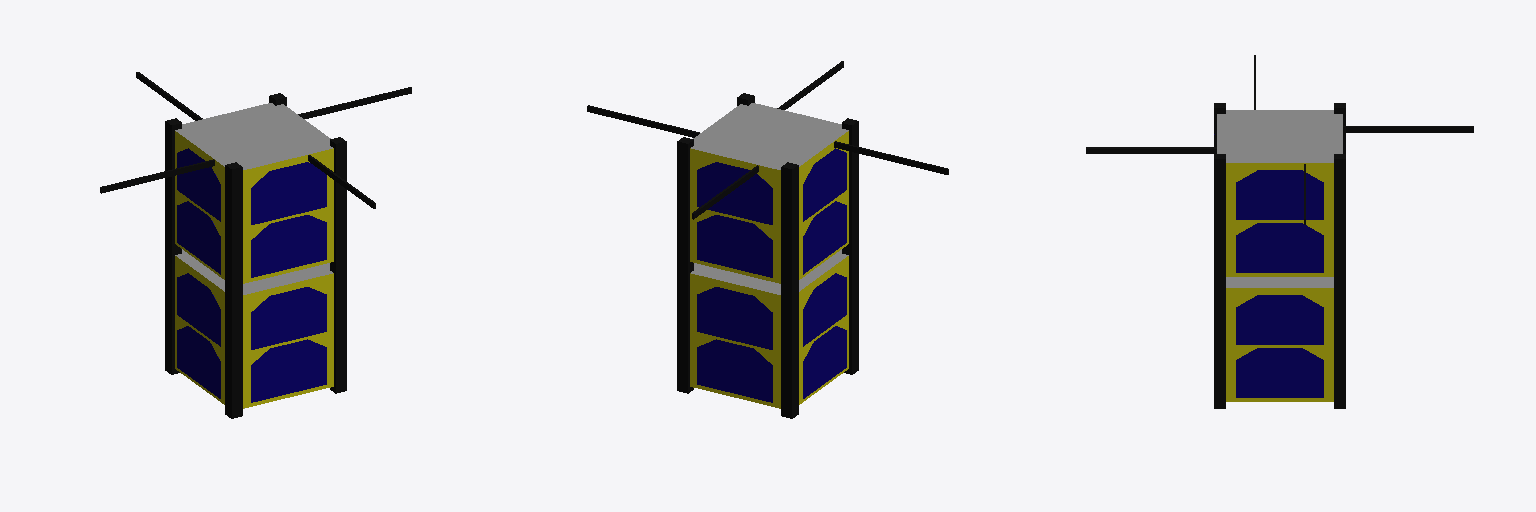
The picture shows the model from 3 angles: view 1: azimuth 30°, elevation 25°; view 2: azimuth 150°, elevation 25°; view 3: azimuth 270°, elevation 25°; orthographic projection.
Visible parts, largest first — view 1: CubeSatWAnten.001, CubeSatWAnten, SolarPanel.010, SolarPanel.011, SolarPanel.006, SolarPanel.005, Leg.003, Leg.005, SolarPanel.009, SolarPanel.008, SolarPanel.007, SolarPanel.016 (+7 smaller); view 2: CubeSatWAnten.001, CubeSatWAnten, SolarPanel.013, SolarPanel.003, SolarPanel.012, SolarPanel.004, Leg.008, Leg.004, SolarPanel.009, SolarPanel.007, SolarPanel.008, SolarPanel.016 (+6 smaller); view 3: CubeSatWAnten.001, CubeSatWAnten, SolarPanel.014, SolarPanel.002, SolarPanel.015, SolarPanel.001, Leg.001, Leg.002, Leg.007, Leg.006, Antenna.003, Antenna.005.
Part boxes in pixels (x1,y1,x2,y2): CubeSatWAnten.001: (175,103,333,283); CubeSatWAnten: (175,249,333,408); SolarPanel.010: (251,339,326,402); SolarPanel.011: (251,287,326,349); SolarPanel.006: (251,215,326,277); SolarPanel.005: (251,162,326,224); Leg.003: (225,162,242,293); Leg.005: (225,290,242,418); SolarPanel.009: (177,326,220,398); SolarPanel.008: (177,273,220,346); SolarPanel.007: (177,201,220,274); SolarPanel.016: (177,148,220,221); CubeSatWAnten.001: (690,103,848,283); CubeSatWAnten: (690,249,848,408); SolarPanel.013: (697,339,772,402); SolarPanel.003: (697,215,772,277); SolarPanel.012: (697,287,772,349); SolarPanel.004: (697,162,772,224); Leg.008: (781,162,798,293); Leg.004: (781,290,798,418); SolarPanel.009: (803,326,846,398); SolarPanel.007: (803,201,846,274); SolarPanel.008: (803,273,846,346); SolarPanel.016: (803,148,846,221); CubeSatWAnten.001: (1217,110,1342,276); CubeSatWAnten: (1226,277,1333,401); SolarPanel.014: (1236,348,1323,397); SolarPanel.002: (1236,223,1323,272); SolarPanel.015: (1236,295,1323,344); SolarPanel.001: (1236,170,1323,219); Leg.001: (1214,154,1225,283); Leg.002: (1334,154,1345,283); Leg.007: (1214,284,1225,408); Leg.006: (1334,284,1345,408); Antenna.003: (1086,147,1216,153); Antenna.005: (1343,126,1473,132).
Size of the model in its own units: 0.31 by 0.22 by 0.31.